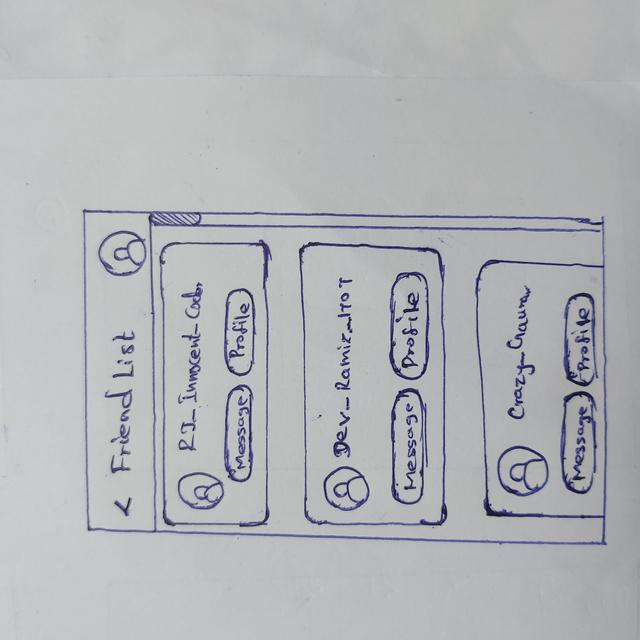ActionButton: (84, 229, 153, 281)
AppBar: (85, 208, 157, 536)
BackButton: (113, 496, 134, 519)
Button: (388, 270, 431, 383), (389, 389, 428, 507), (561, 393, 598, 497), (563, 291, 600, 387), (223, 384, 257, 484), (223, 286, 256, 377)
CardView: (298, 243, 447, 525), (475, 259, 604, 521), (158, 240, 273, 529)
Icon: (496, 448, 550, 495), (95, 230, 147, 278), (322, 466, 372, 513), (176, 473, 226, 509)
ListView: (154, 234, 604, 534)
MainLayout: (83, 207, 605, 544)
ScrollBar: (150, 210, 605, 233)
TextView: (183, 284, 203, 458), (333, 276, 351, 459), (113, 332, 133, 478), (509, 286, 528, 423)
VerticalListView: (152, 230, 604, 535)
